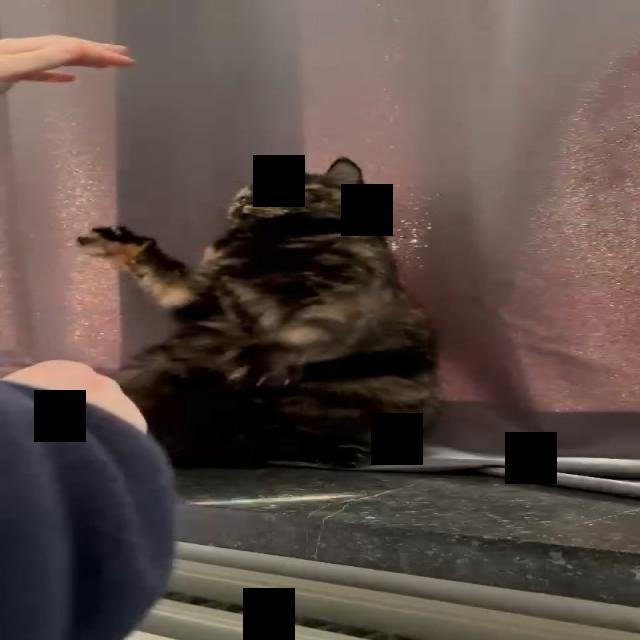authorized: (75, 156, 441, 468)
